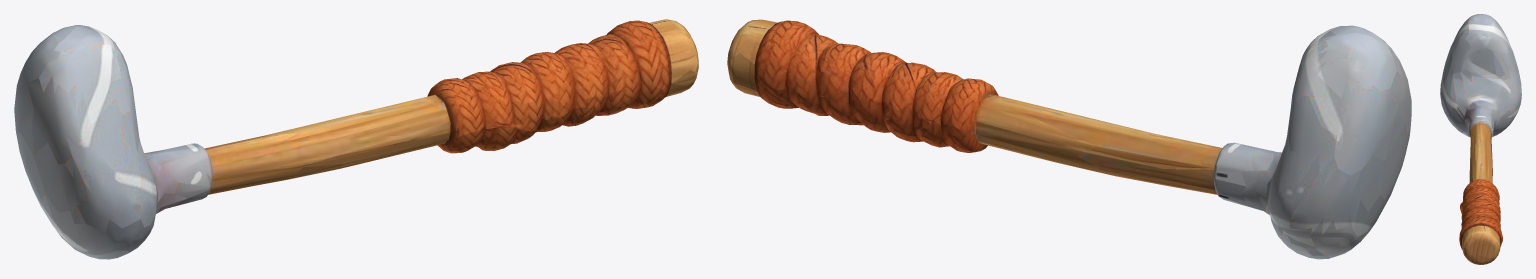
File: club.glb
3 views of the same model, side by side, from view 1: azimuth 30°, elevation 25°; view 2: azimuth 150°, elevation 25°; view 3: azimuth 270°, elevation 25° (orthographic). The views are drawn at different scales.
Size of the model in its own units: 1.9 by 0.6319 by 0.4103.
1 material, 1 textured.
